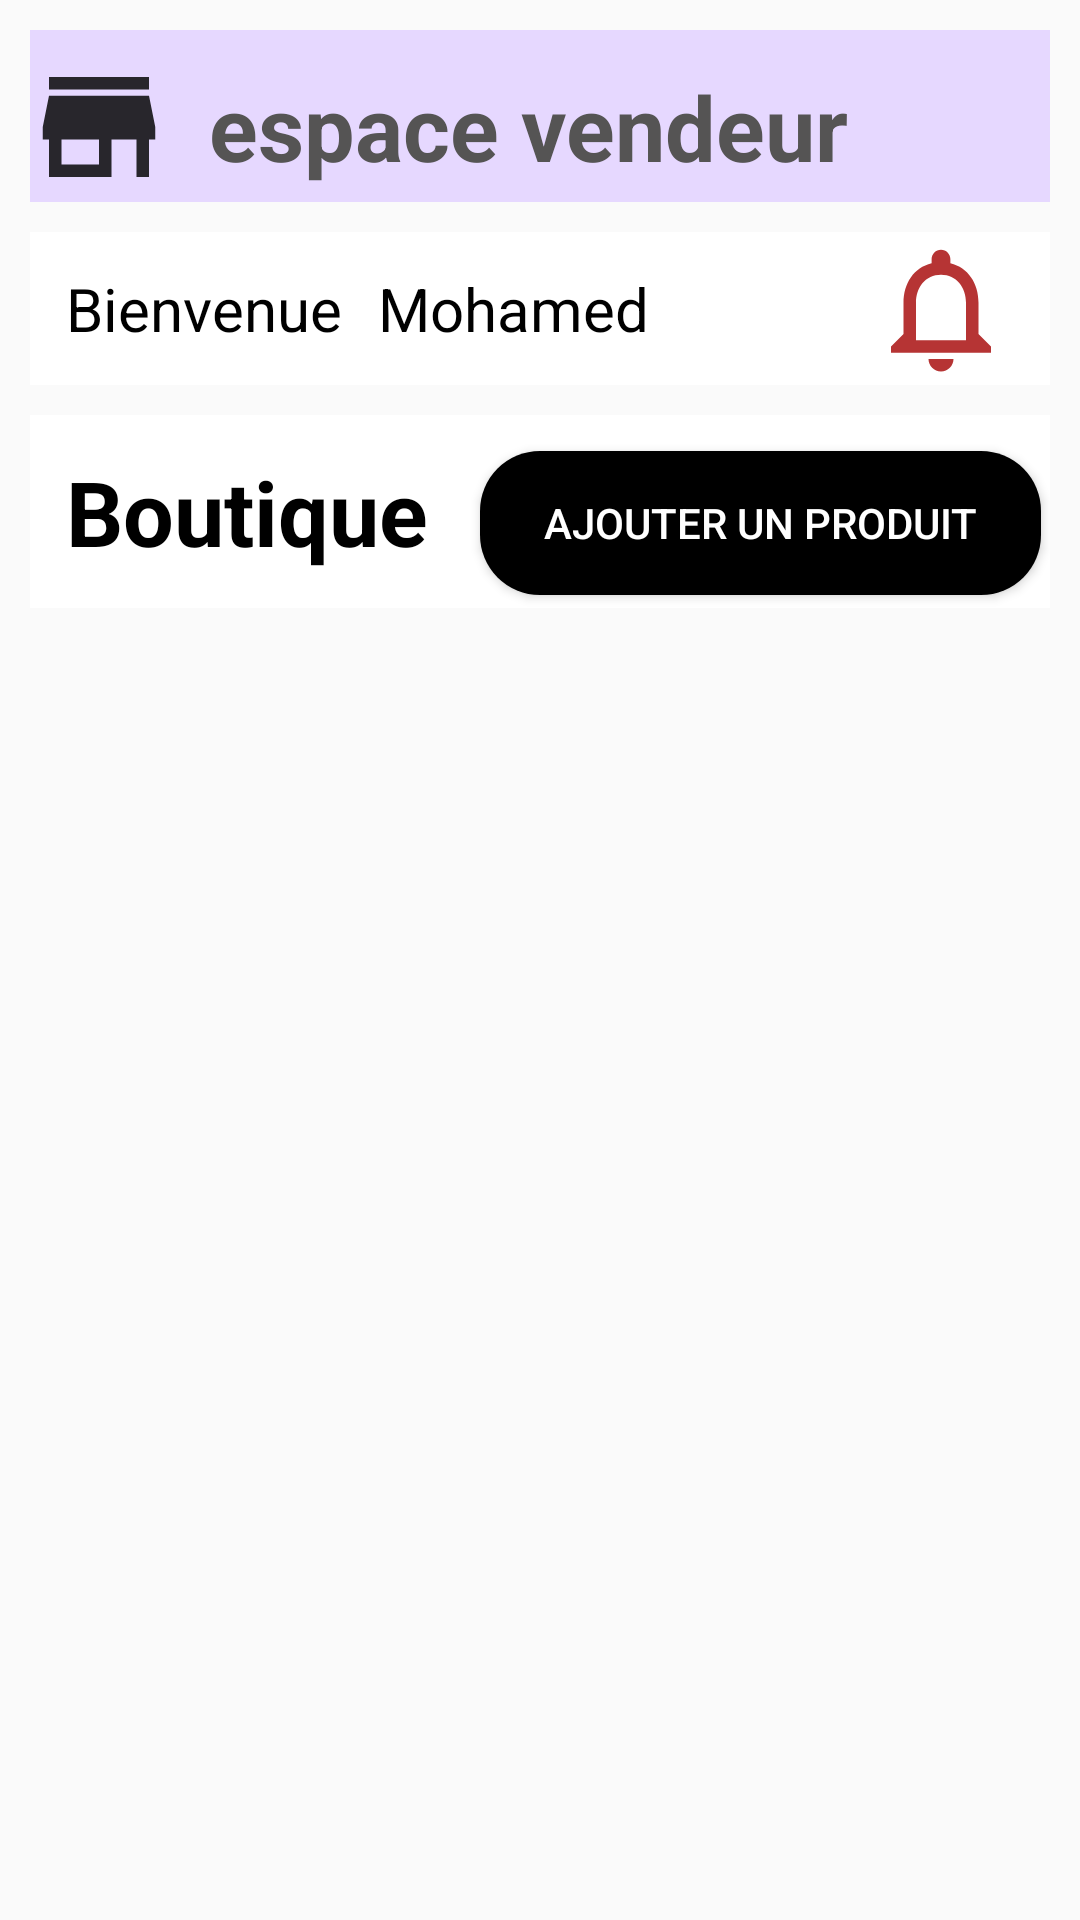

Named icons in this screenshot (1080*1920) and their centers, [x,y]:
bell: [941,310]
store: [99,127]
